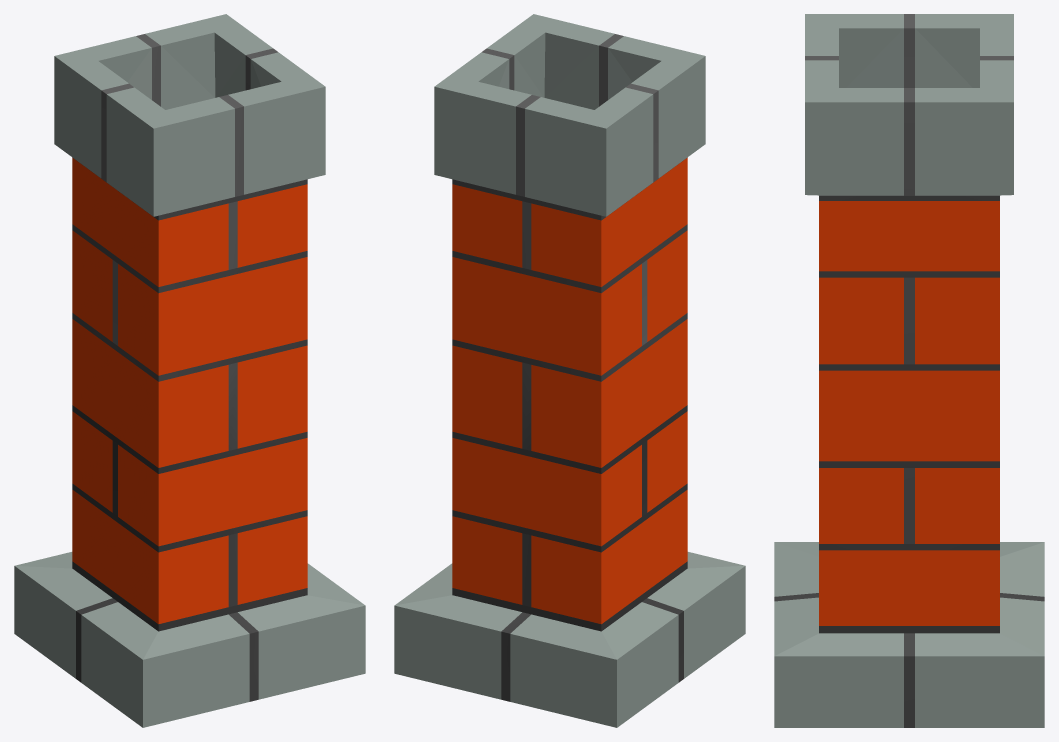
The model's file is Roof_Chimney_02.fbx.
The picture shows the model from 3 angles, left to right: view 1: azimuth 30°, elevation 25°; view 2: azimuth 150°, elevation 25°; view 3: azimuth 270°, elevation 25°; orthographic projection. The views are drawn at different scales.
Visible parts, largest first — view 1: Roof_Chimney_02; view 2: Roof_Chimney_02; view 3: Roof_Chimney_02.
Part boxes in pixels (left/top/right/bottom): Roof_Chimney_02: left=14, top=14, right=365, bottom=727; Roof_Chimney_02: left=394, top=14, right=745, bottom=727; Roof_Chimney_02: left=774, top=14, right=1044, bottom=727.
Bounding box in the file's own units: 0.8 × 2 × 0.8.
